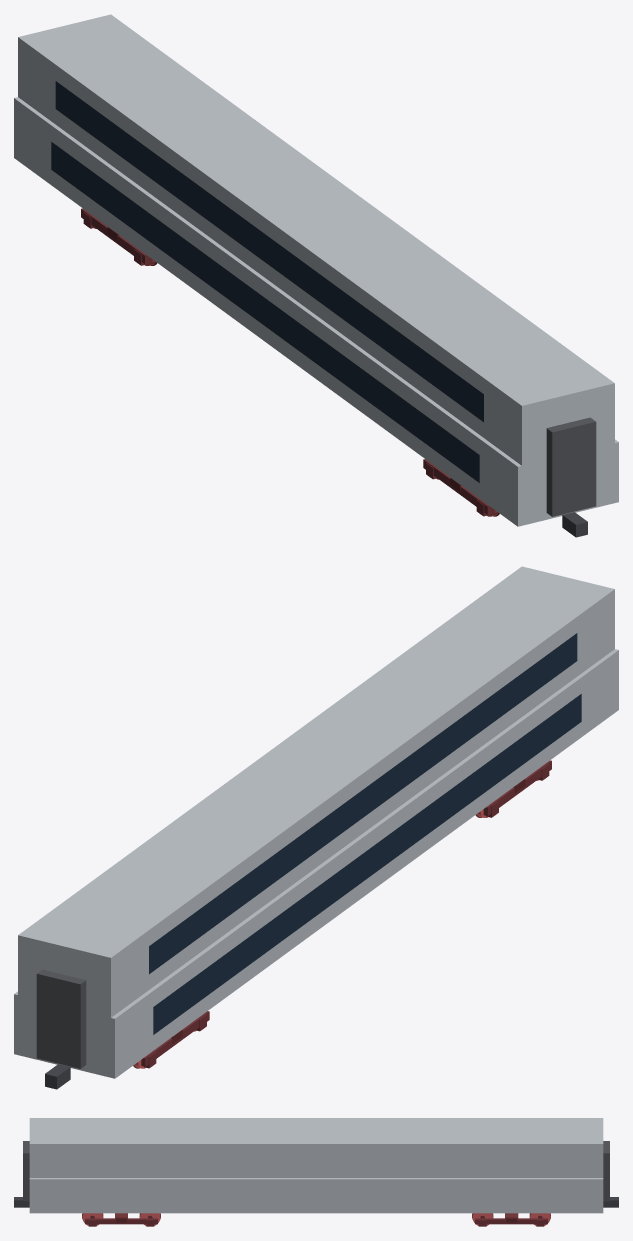
The model's file is passenger_coach_lod0.glb.
3 views of the same model, one above another, from view 1: azimuth 30°, elevation 25°; view 2: azimuth 150°, elevation 25°; view 3: azimuth 270°, elevation 25° (orthographic). The views are drawn at different scales.
Parts seen in each view (by area): view 1: Coach_Chassis, Coach_Glass, Coach_Bogie_Front, Coach_Bogie_Rear; view 2: Coach_Chassis, Coach_Glass, Coach_Bogie_Rear, Coach_Bogie_Front; view 3: Coach_Chassis, Coach_Bogie_Rear, Coach_Bogie_Front, Coach_Couplers.
Boxes of the visible parts, x1=… form: Coach_Chassis: x1=14, y1=14, x2=618, y2=526; Coach_Glass: x1=51, y1=81, x2=483, y2=482; Coach_Bogie_Front: x1=423, y1=459, x2=499, y2=516; Coach_Bogie_Rear: x1=81, y1=208, x2=157, y2=265; Coach_Chassis: x1=14, y1=566, x2=618, y2=1078; Coach_Glass: x1=149, y1=633, x2=581, y2=1034; Coach_Bogie_Rear: x1=133, y1=1011, x2=209, y2=1068; Coach_Bogie_Front: x1=475, y1=760, x2=551, y2=817; Coach_Chassis: x1=23, y1=1118, x2=609, y2=1213; Coach_Bogie_Rear: x1=472, y1=1213, x2=550, y2=1226; Coach_Bogie_Front: x1=82, y1=1213, x2=160, y2=1226; Coach_Couplers: x1=14, y1=1197, x2=618, y2=1207.
Size of the model in its own units: 3.02 by 4.43 by 27.3.
